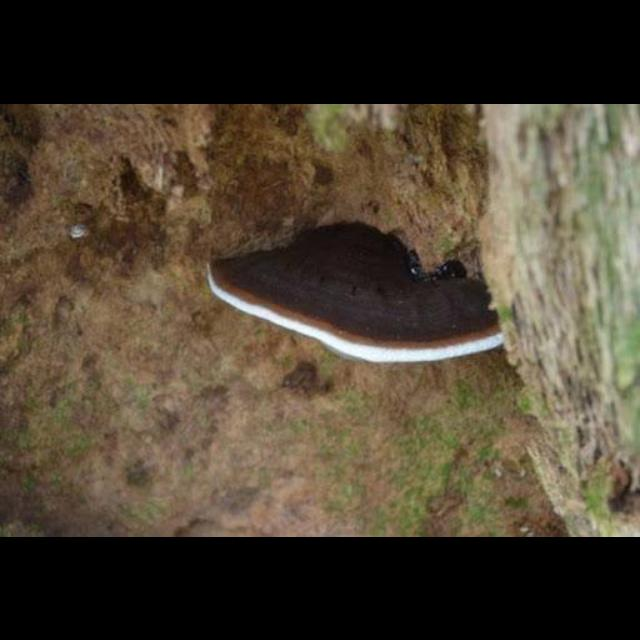ganoderma: (206, 220, 508, 367)
